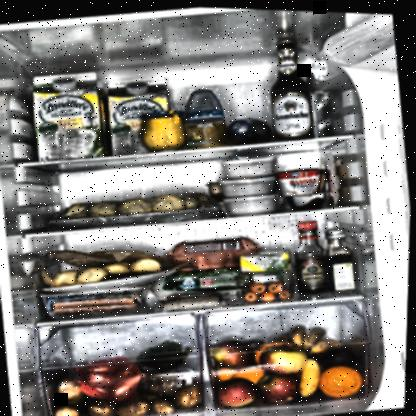apple: (261, 340, 312, 375), (218, 373, 262, 407), (212, 335, 256, 367), (259, 369, 303, 401)
banana: (299, 355, 324, 394), (309, 334, 346, 352), (303, 323, 327, 347), (292, 323, 308, 345)
carrot: (250, 280, 269, 293), (267, 280, 286, 291), (261, 290, 278, 300), (246, 290, 260, 300), (280, 287, 293, 296)
onion: (110, 374, 145, 399), (86, 368, 121, 387)
orange: (321, 359, 366, 396)
potato: (57, 375, 89, 406), (173, 380, 205, 407), (116, 395, 155, 415), (88, 394, 118, 415), (153, 393, 177, 414), (56, 401, 85, 415)
sausage: (53, 298, 142, 319), (52, 291, 139, 311)
